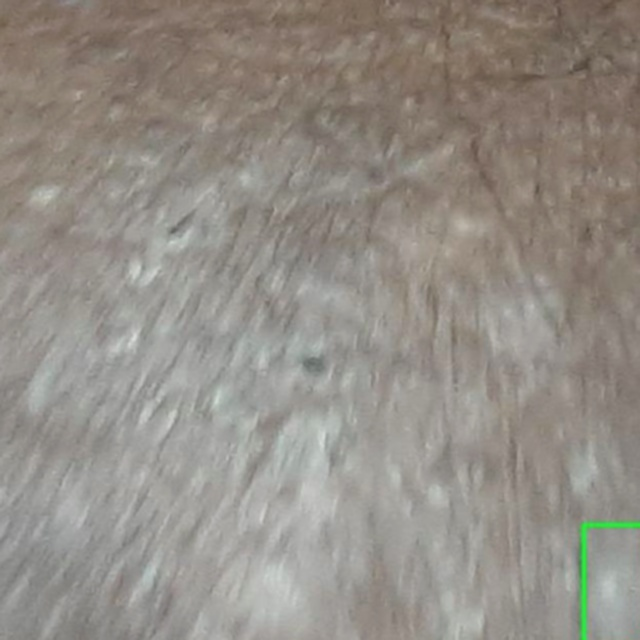Eczema: (584, 524, 639, 639)
